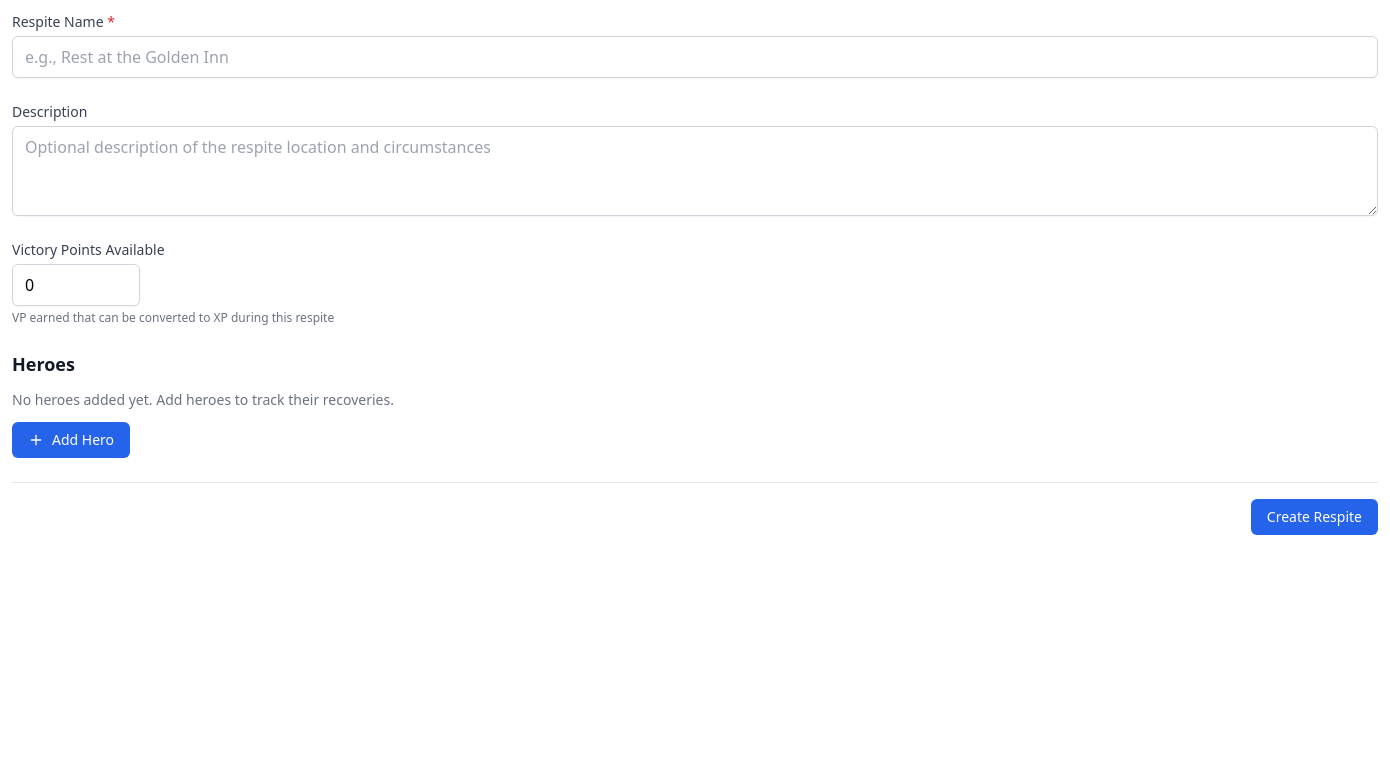
Test: RespiteSetup - Hero Entry Mode Toggle › should show mode toggle buttons after adding a hero
Click the button "Add Hero".
click(71, 440)  # box [12,422,130,458]
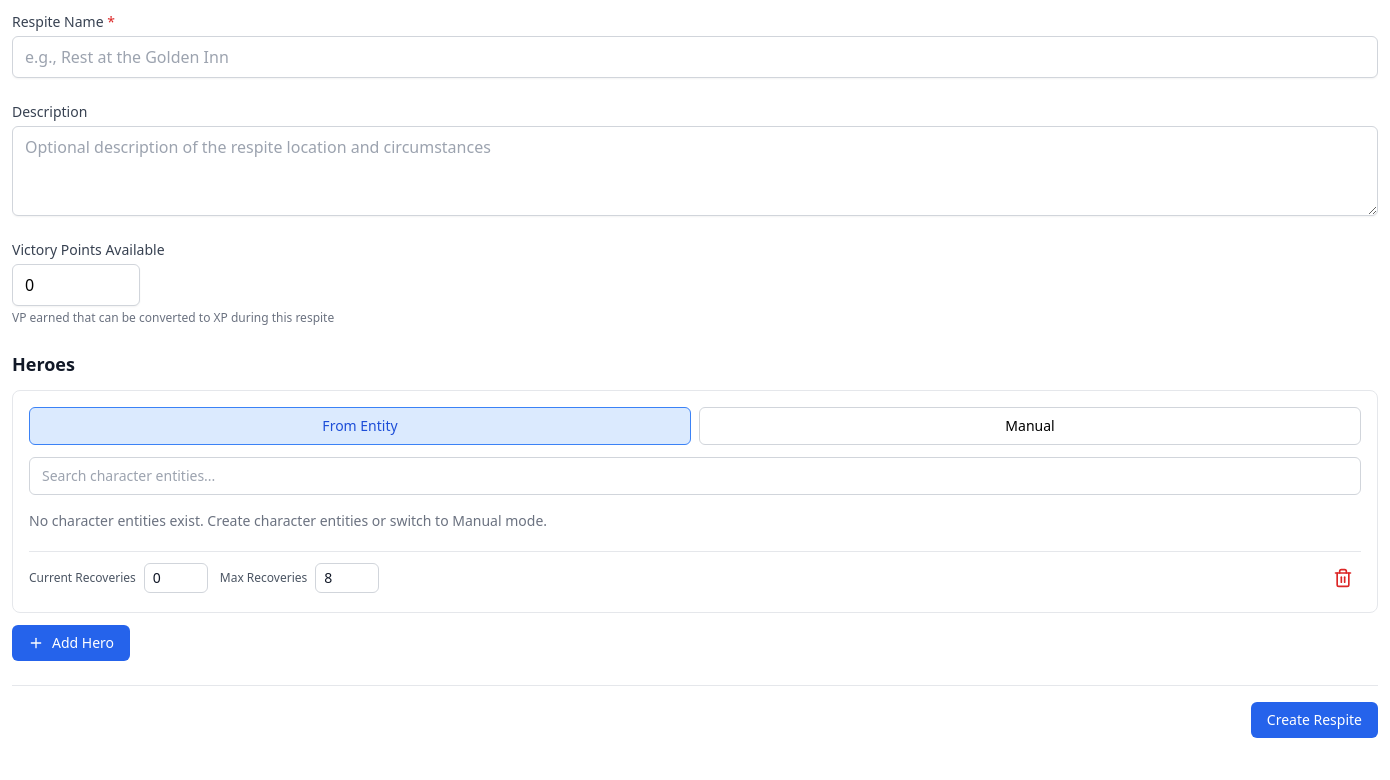
Result: the button "From Entity" is shown at [29,407,691,445]
Result: the button "Manual" is shown at [699,407,1361,445]
